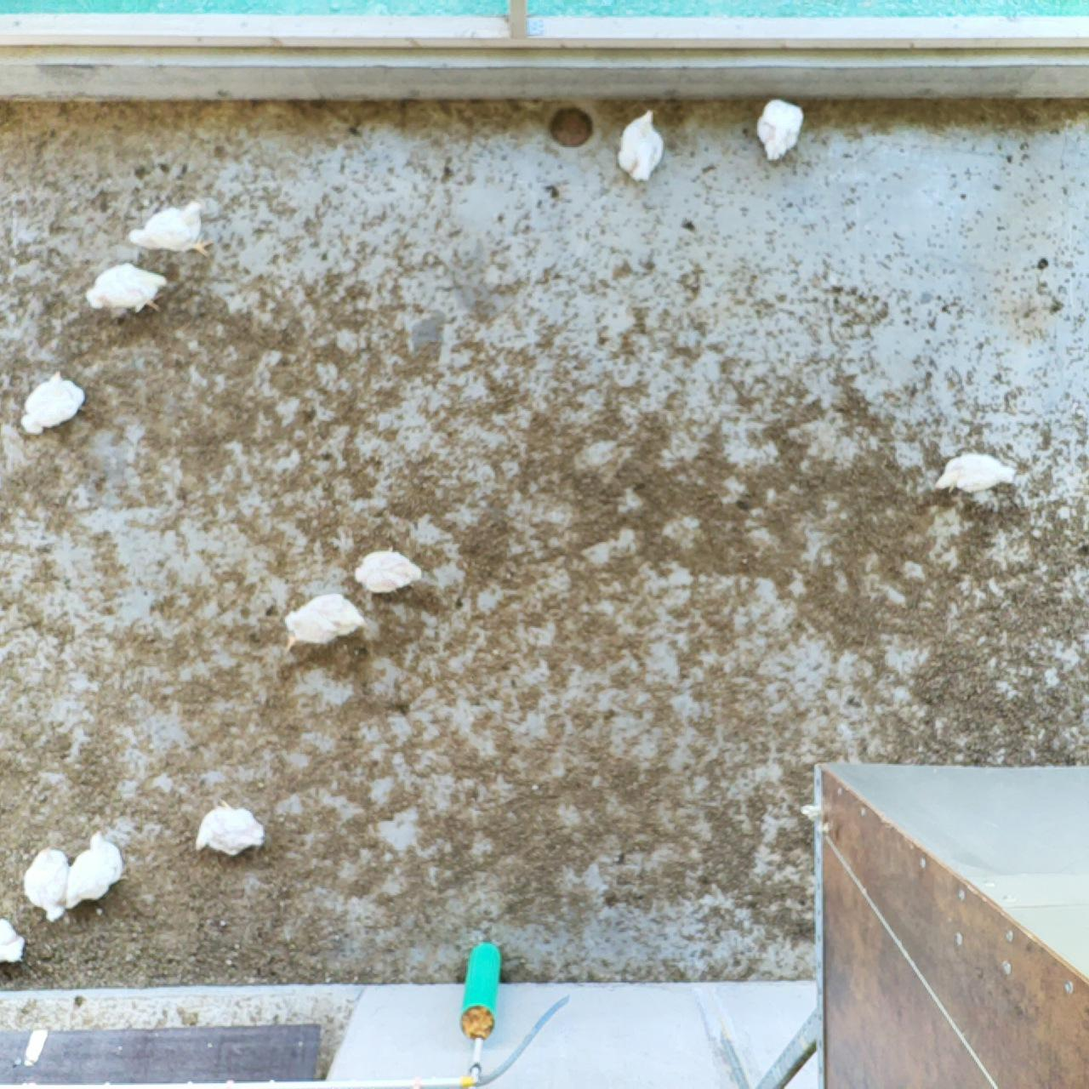chicken: (278, 590, 375, 657), (56, 827, 128, 913), (123, 196, 212, 261), (929, 444, 1022, 506), (18, 366, 94, 441), (81, 257, 167, 323), (345, 541, 432, 606), (191, 798, 274, 860), (611, 100, 670, 185), (22, 839, 74, 932), (754, 95, 813, 167), (0, 913, 30, 967)
